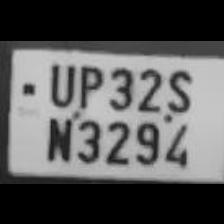2: (102, 116, 131, 166), (132, 64, 162, 110)
3: (71, 112, 102, 164), (104, 61, 134, 108)
4: (160, 114, 192, 168)
9: (132, 116, 160, 166)
N: (41, 111, 73, 161)
P: (74, 60, 102, 108)
S: (162, 63, 194, 113)
U: (43, 57, 75, 107)
